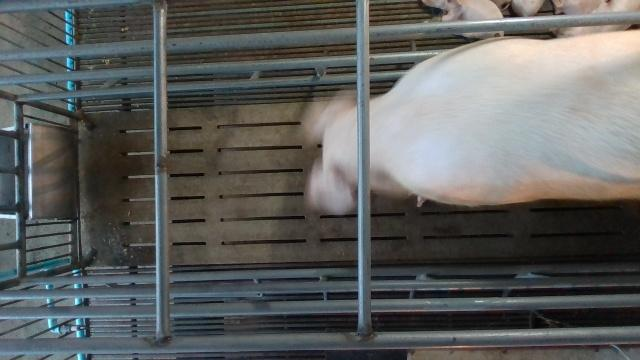piglet: (422, 0, 505, 41), (552, 0, 640, 37)
sow-stand: (299, 30, 640, 214)
